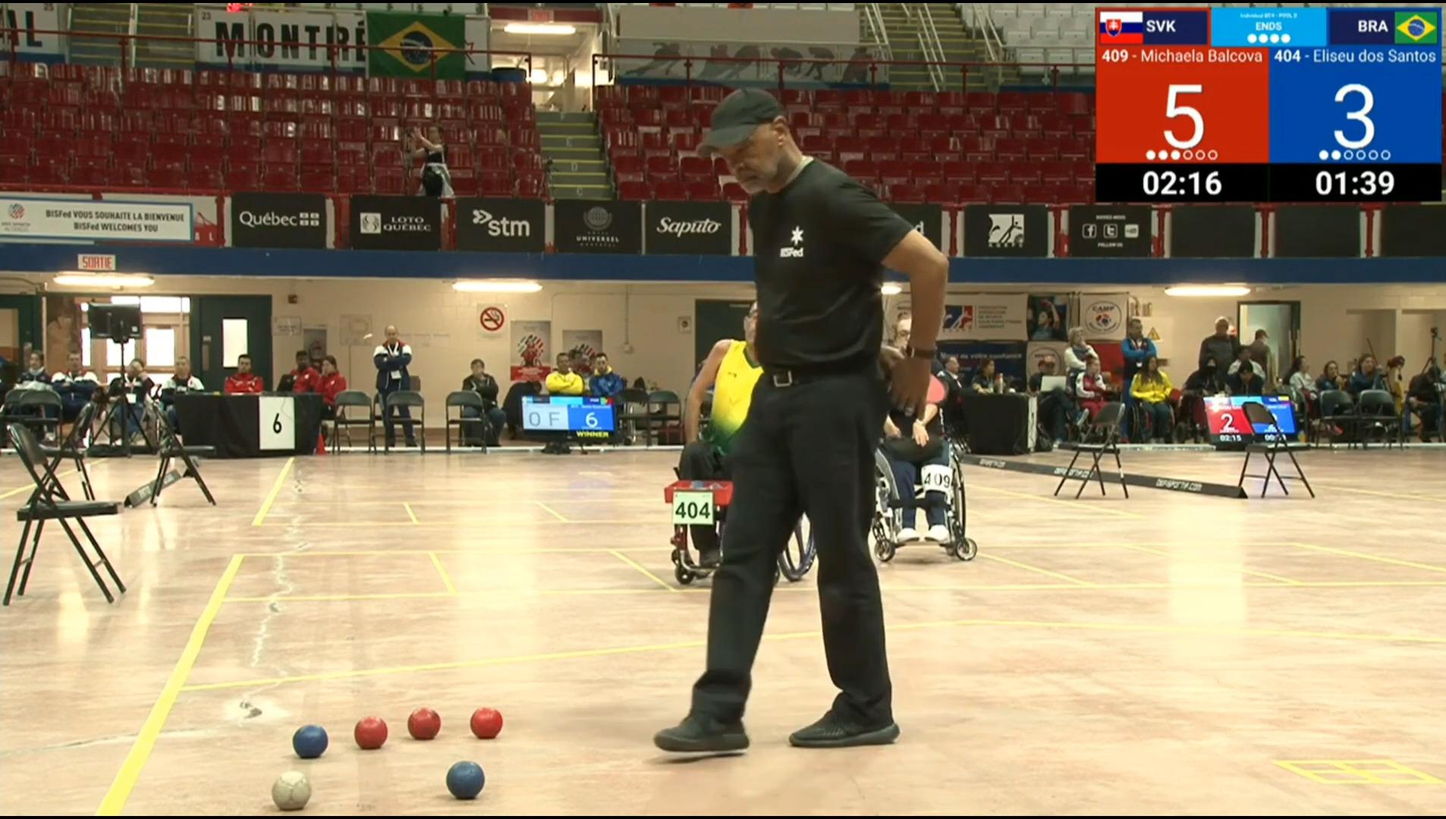blue_ball: (448, 762, 485, 798), (292, 725, 328, 758)
red_ball: (408, 707, 440, 739), (355, 716, 386, 749), (471, 707, 502, 739)
white_ball: (272, 773, 311, 809)
